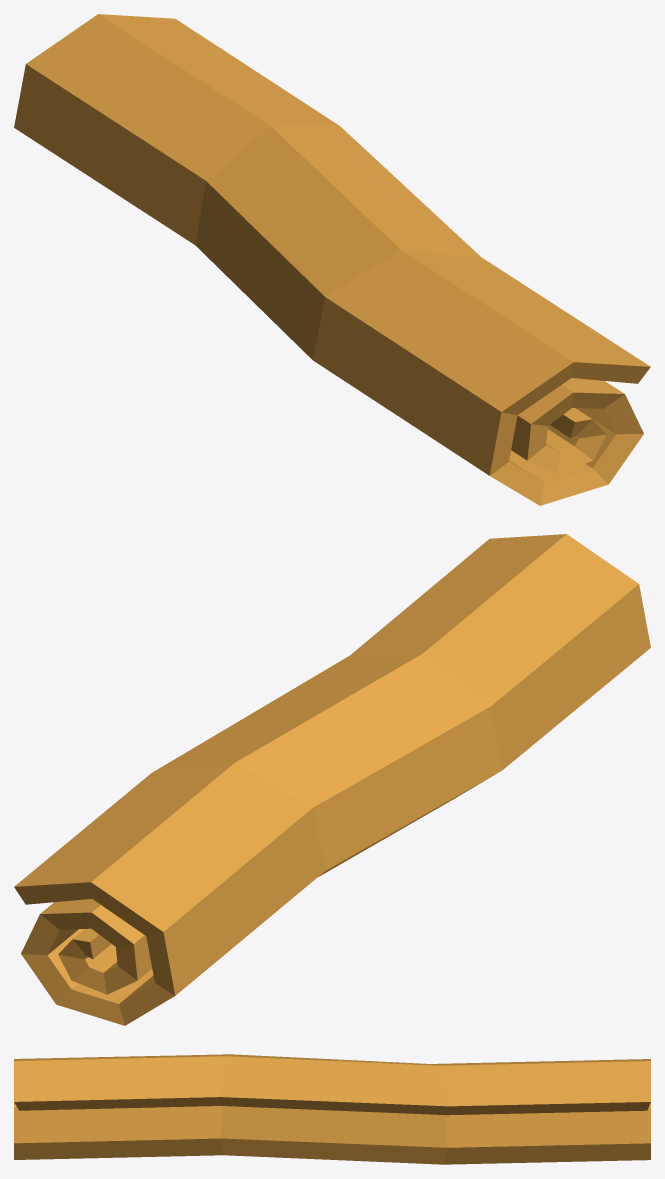
File: carpet-rolled.fbx
3 renders of one model, top to bottom at view 1: azimuth 30°, elevation 25°; view 2: azimuth 150°, elevation 25°; view 3: azimuth 270°, elevation 25°, orthographic. The views are drawn at different scales.
Parts seen in each view (by area): view 1: carpet-rolled; view 2: carpet-rolled; view 3: carpet-rolled.
Part boxes in pixels (x1,y1,x2,y2): carpet-rolled: [14, 14, 650, 505]; carpet-rolled: [14, 534, 650, 1025]; carpet-rolled: [14, 1054, 650, 1164].
Bounding box in the file's own units: 0.3905 × 0.2674 × 1.7.
